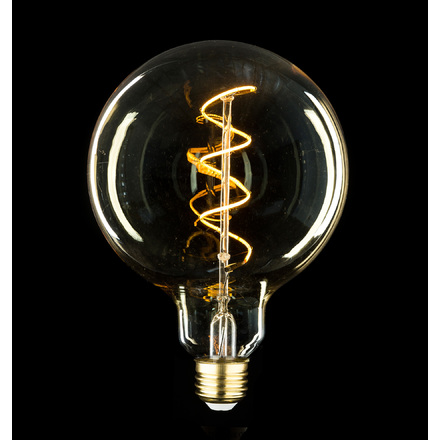Nonrec_Glass: (75, 32, 360, 404)
